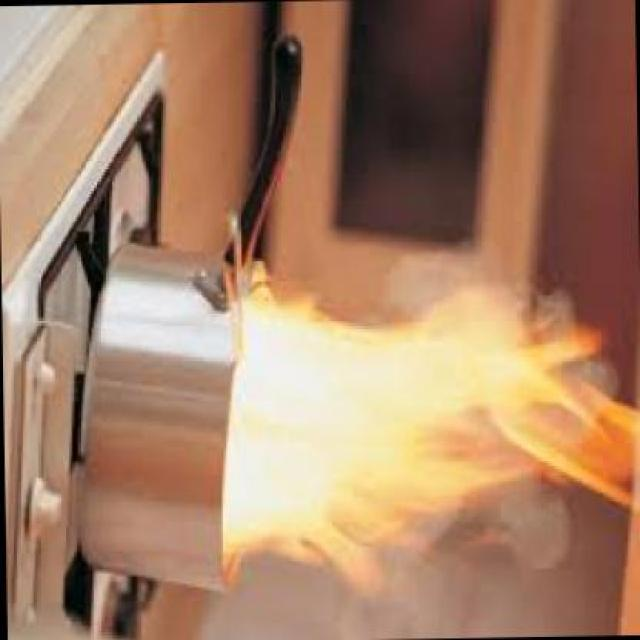Fire: (217, 240, 640, 577)
